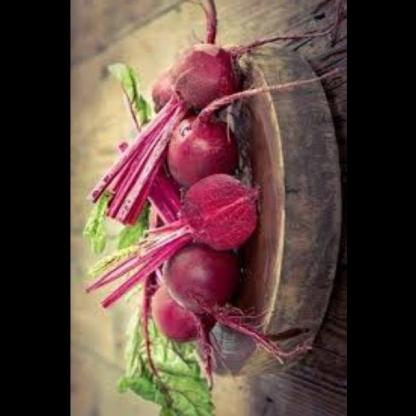beet: (183, 169, 258, 251), (164, 112, 236, 192), (164, 245, 244, 313), (140, 281, 216, 347), (163, 47, 237, 113)
